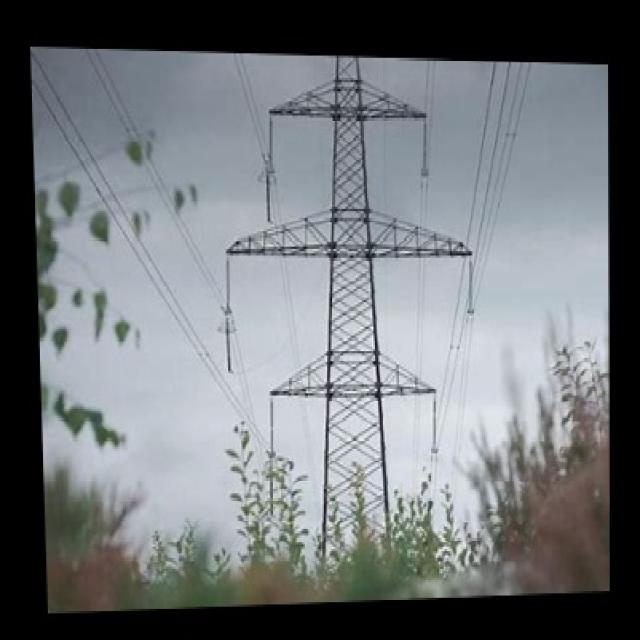utility poles: (218, 387, 496, 583)
